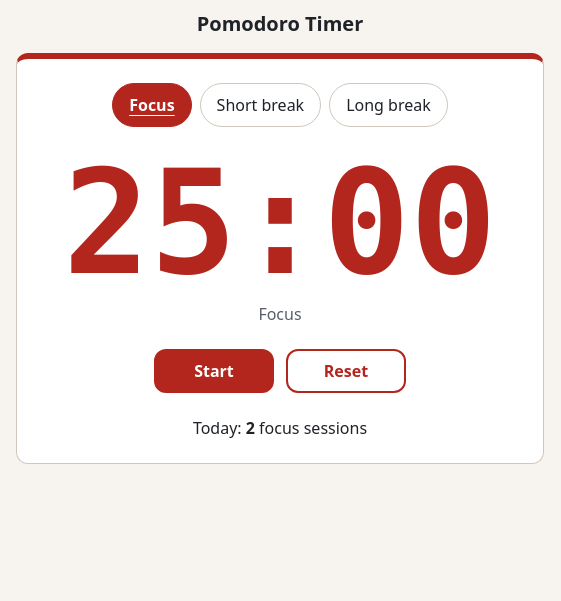
Test: S6 Today's focus count, kept across reloads › a count of 3 still shows 3 after a reload
Click the button "Start". click: (214, 371)
box: left=154, top=349, right=274, bottom=393
Wait 1500500 ms
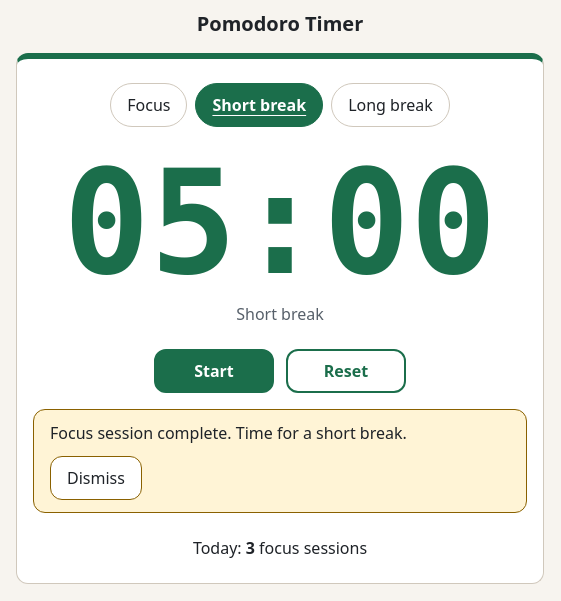
Check: the element with class "today-count" reads "Today: 3 focus sessions", box left=193, top=537, right=367, bottom=559
